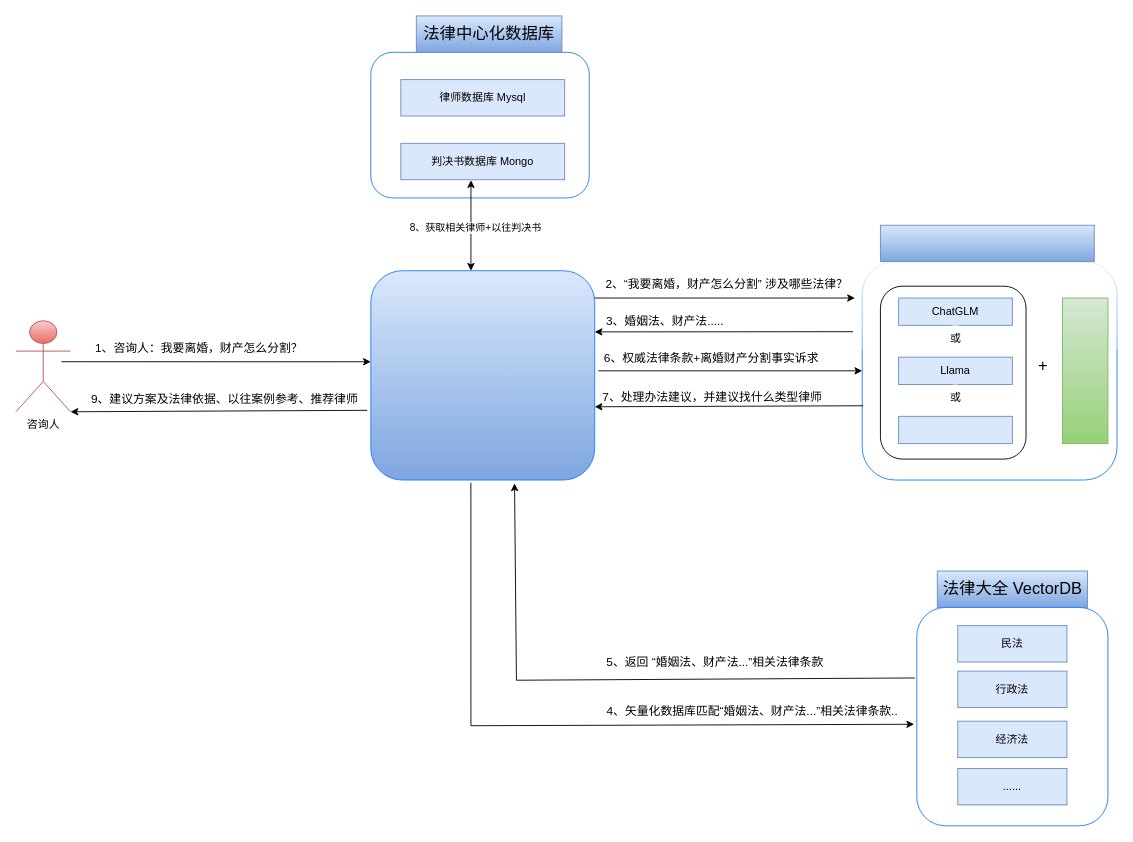
Some shapes in this 1133 by 842 pixel diagram are drawn without their labels. Each missing label, with the centre of its shape:
"Bloomz" belongs at (x=955, y=429).
"法 律 微 调 指 令" belongs at (x=1085, y=370).
"法查查服务系统" belongs at (x=482, y=375).
"法查查法律大语言模型 LLM" belongs at (x=987, y=243).
